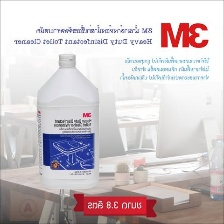bottle: (208, 132, 224, 203)
cleaning_solution: (35, 51, 102, 191)
